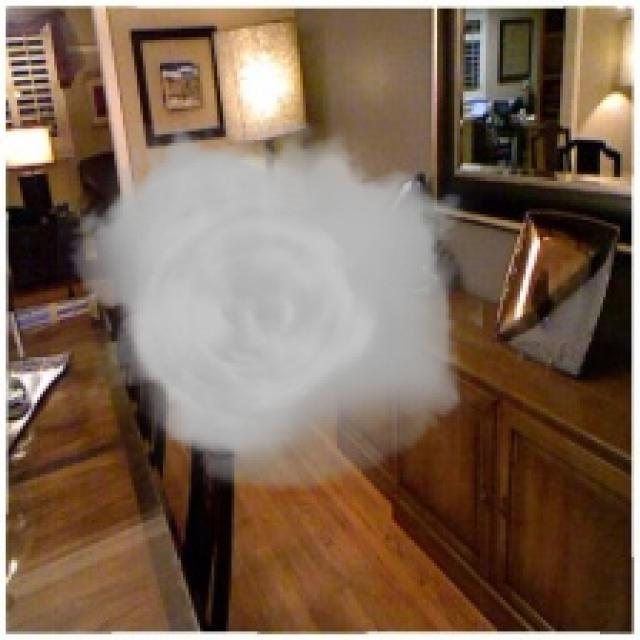smoke: (57, 123, 483, 491)
